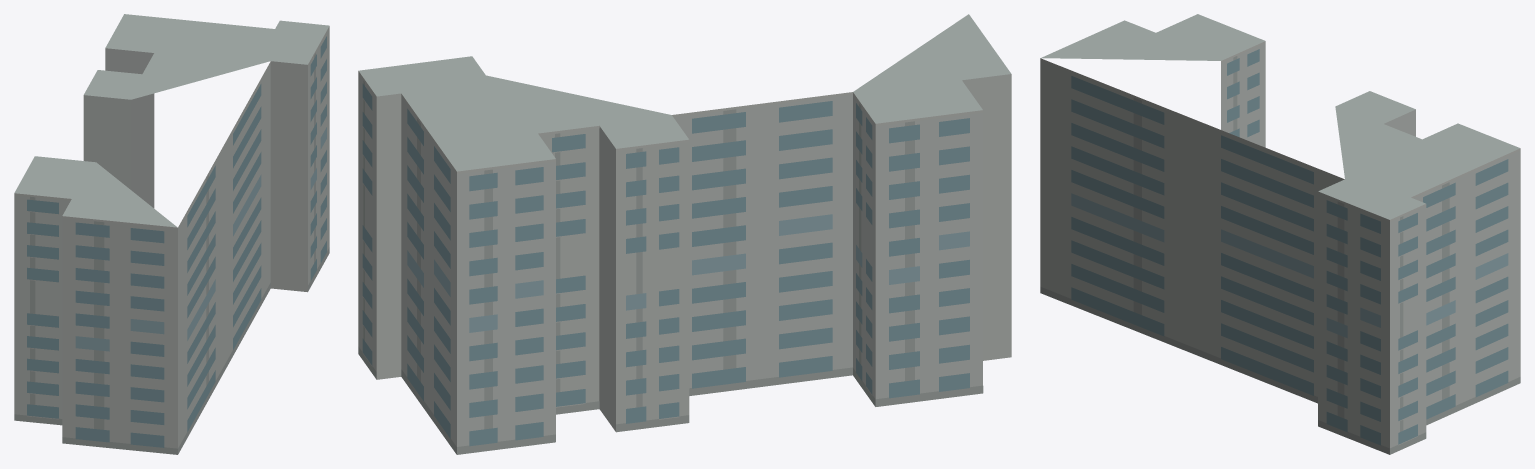
The model's file is residential-e2e31eca-0133-4162-9c18-fbf934d6d7a9.glb.
3 views of the same model, side by side, from view 1: azimuth 30°, elevation 25°; view 2: azimuth 150°, elevation 25°; view 3: azimuth 270°, elevation 25° (orthographic). The views are drawn at different scales.
Parts seen in each view (by area): view 1: residential-e2e31eca-0133-4162-9c18-fbf934d6d7a9.tmp; view 2: residential-e2e31eca-0133-4162-9c18-fbf934d6d7a9.tmp; view 3: residential-e2e31eca-0133-4162-9c18-fbf934d6d7a9.tmp.
Part boxes in pixels (x1,y1,x2,y2): residential-e2e31eca-0133-4162-9c18-fbf934d6d7a9.tmp: (14, 14, 329, 454); residential-e2e31eca-0133-4162-9c18-fbf934d6d7a9.tmp: (358, 14, 1011, 454); residential-e2e31eca-0133-4162-9c18-fbf934d6d7a9.tmp: (1040, 14, 1520, 454).
Size of the model in its own units: 52.64 by 28 by 51.86.
